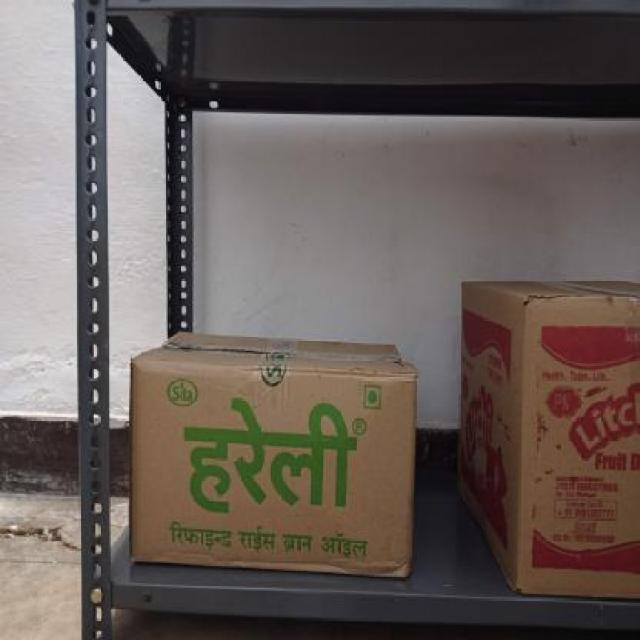box: (128, 358, 417, 580), (524, 299, 640, 597)
